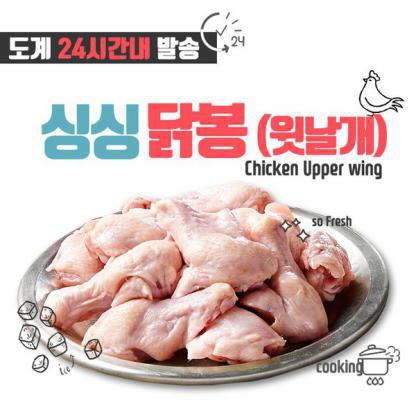chicken: (78, 282, 233, 370), (38, 236, 180, 330), (158, 196, 268, 296), (247, 209, 326, 340), (76, 211, 186, 262), (185, 307, 284, 363), (290, 222, 355, 298), (51, 228, 115, 290)
